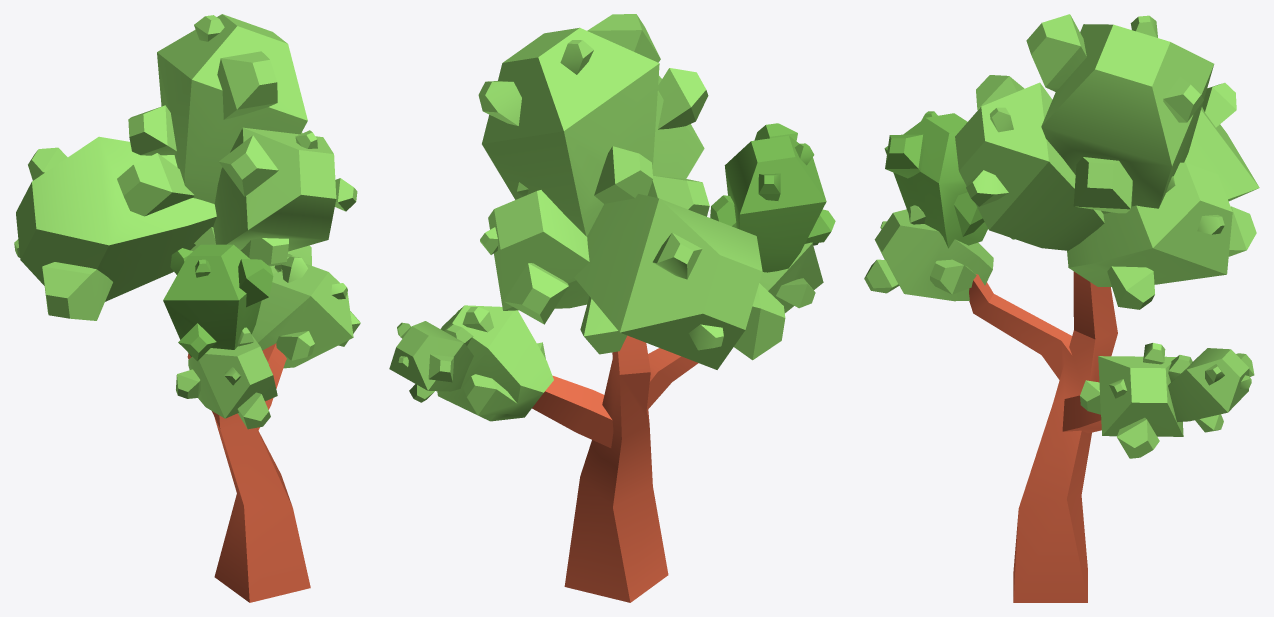
Rendered from Tree2.gltf.
The picture shows the model from 3 angles, left to right: view 1: azimuth 30°, elevation 25°; view 2: azimuth 150°, elevation 25°; view 3: azimuth 270°, elevation 25°; orthographic projection. The views are drawn at different scales.
Parts seen in each view (by area): view 1: Tree.001; view 2: Tree.001; view 3: Tree.001.
Part boxes in pixels (x1,y1,x2,y2): Tree.001: [14, 14, 360, 602]; Tree.001: [389, 14, 835, 602]; Tree.001: [864, 14, 1259, 602].
Size of the model in its own units: 10.59 by 16.73 by 10.6.
